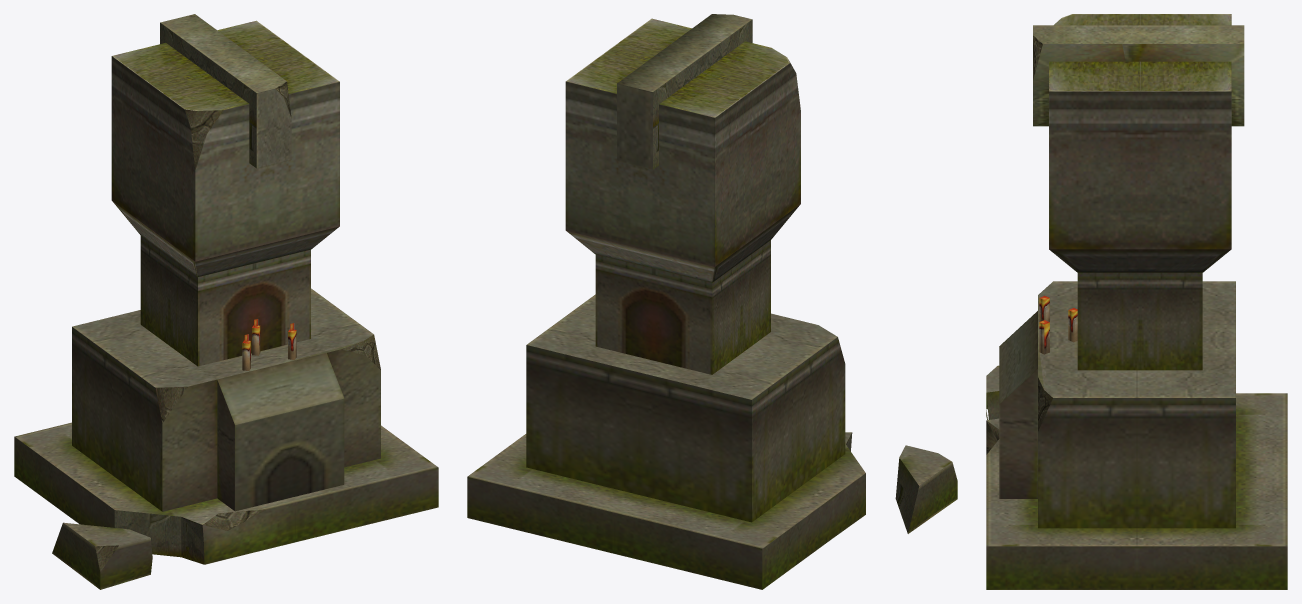
Rendered from yw_huanghunyaosai_suishi02.FBX.
The picture shows the model from 3 angles, left to right: view 1: azimuth 30°, elevation 25°; view 2: azimuth 150°, elevation 25°; view 3: azimuth 270°, elevation 25°; orthographic projection. The views are drawn at different scales.
Parts seen in each view (by area): view 1: yw_huanghunyaosai_suishi02; view 2: yw_huanghunyaosai_suishi02; view 3: yw_huanghunyaosai_suishi02.
Boxes of the visible parts, x1,y1,x2,y2 form: yw_huanghunyaosai_suishi02: (14,14,438,589); yw_huanghunyaosai_suishi02: (467,14,957,589); yw_huanghunyaosai_suishi02: (986,14,1287,589).
Size of the model in its own units: 211 by 261 by 148.
